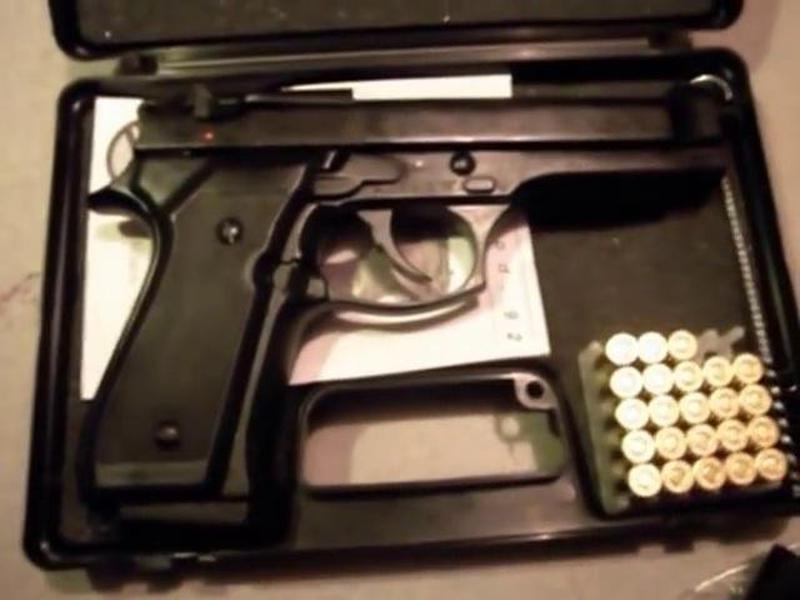Pistola: (86, 89, 734, 527)
